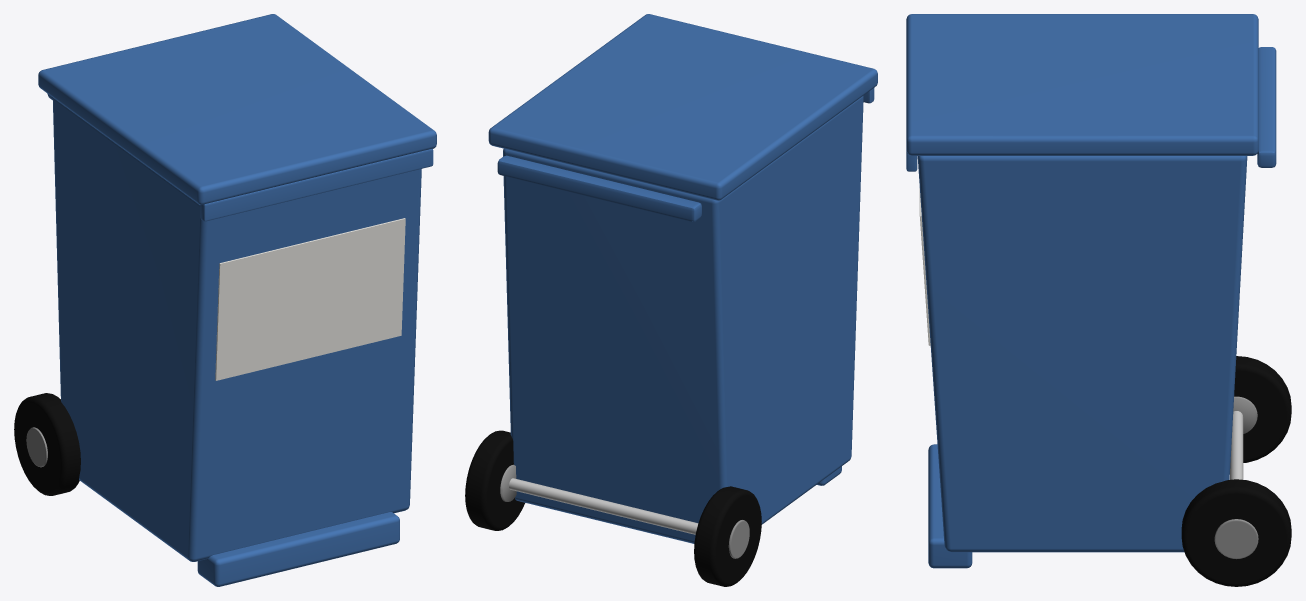
File: industrial.yard.bin_plastic.glb
3 renders of one model, left to right at view 1: azimuth 30°, elevation 25°; view 2: azimuth 150°, elevation 25°; view 3: azimuth 270°, elevation 25°, orthographic. The views are drawn at different scales.
Visible parts, largest first — view 1: main__paint_47a, main__paint_eee, main__rubber, main__paint_999; view 2: main__paint_47a, main__rubber, main__galv_ccc, main__paint_999; view 3: main__paint_47a, main__rubber, main__paint_999, main__galv_ccc.
Part boxes in pixels (x1,y1,x2,y2): main__paint_47a: (38,14,436,586); main__paint_eee: (215,218,405,380); main__rubber: (14,393,80,495); main__paint_999: (26,427,47,467); main__paint_47a: (488,14,877,543); main__rubber: (465,430,761,586); main__galv_ccc: (509,478,698,534); main__paint_999: (500,464,749,558); main__paint_47a: (906,14,1276,568); main__rubber: (1181,356,1291,586); main__paint_999: (1214,396,1258,559); main__galv_ccc: (1230,411,1243,479).
Bounding box in the file's own units: 0.588 × 0.895 × 0.7.
